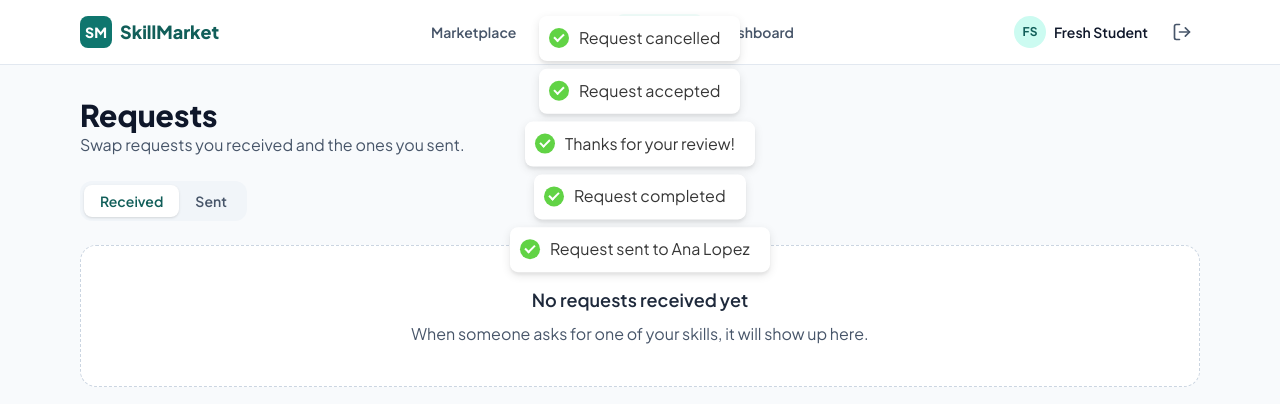
it: handling requests and reviews › shows the empty state when you have sent no requests
Click the tab "Sent" at (211, 201), box [179,185,243,217]
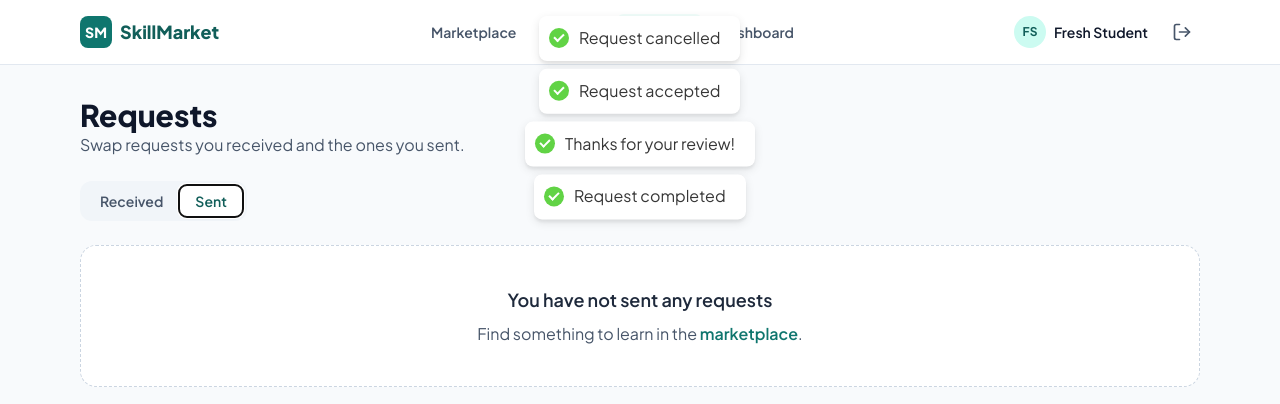
Expected: the text "You have not sent any requests" is shown, [508,288,772,311]
